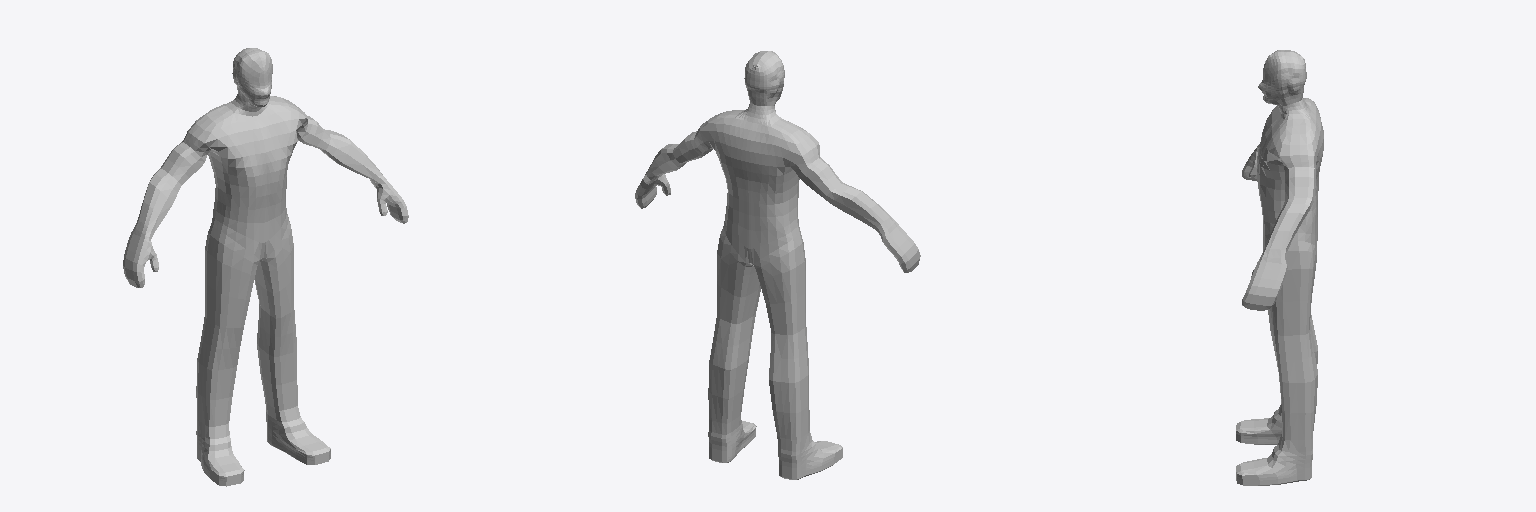
Rendered from homem_base2.obj.
The picture shows the model from 3 angles: view 1: azimuth 30°, elevation 25°; view 2: azimuth 150°, elevation 25°; view 3: azimuth 270°, elevation 25°; orthographic projection.
Parts seen in each view (by area): view 1: CORPO_Cube.001; view 2: CORPO_Cube.001; view 3: CORPO_Cube.001.
Part boxes in pixels (x1,y1,x2,y2): CORPO_Cube.001: (123,48,408,486); CORPO_Cube.001: (635,51,920,479); CORPO_Cube.001: (1236,50,1323,485).
Bounding box in the file's own units: 1.4 × 2.01 × 0.3935.